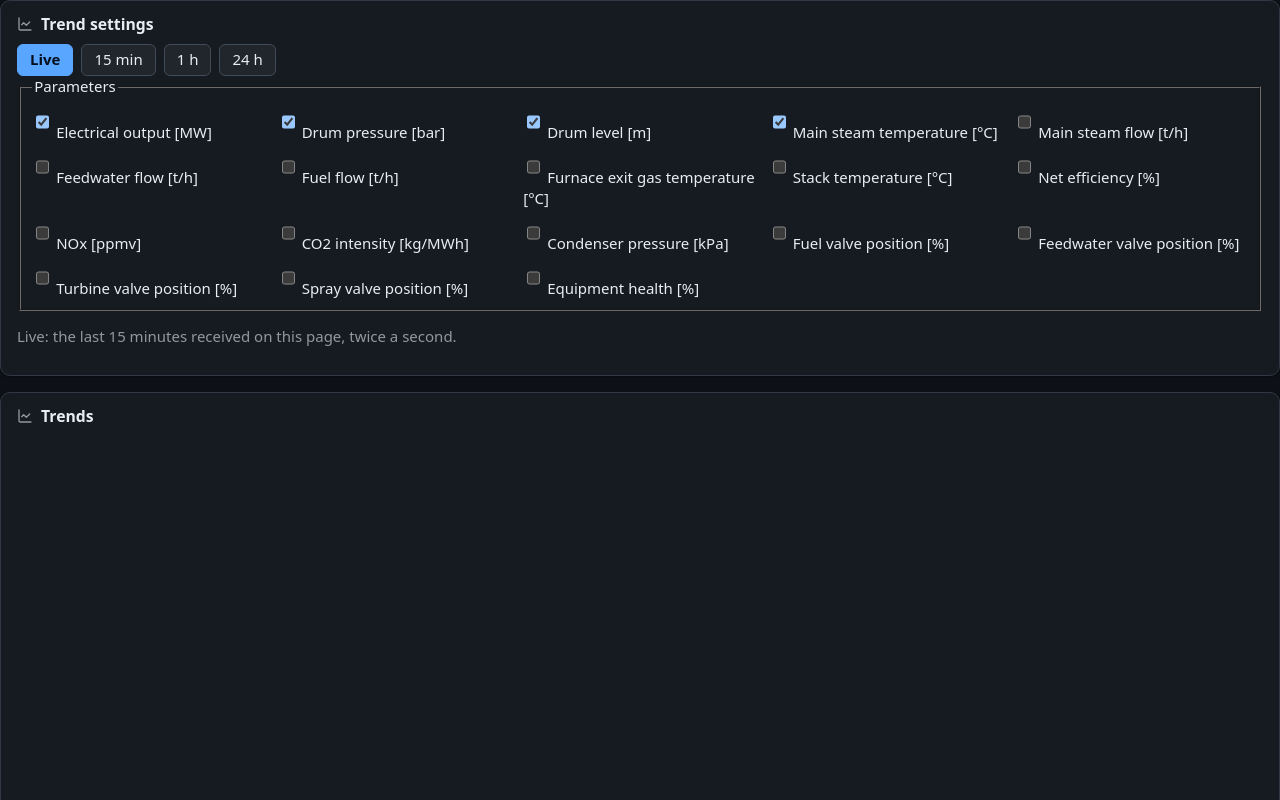
Scenario: TrendsScreen › reads recorded history for a fixed range, one request per measurement
Step 1. Click the button "1 h" → (188, 60), box 164,44 -> 212,76
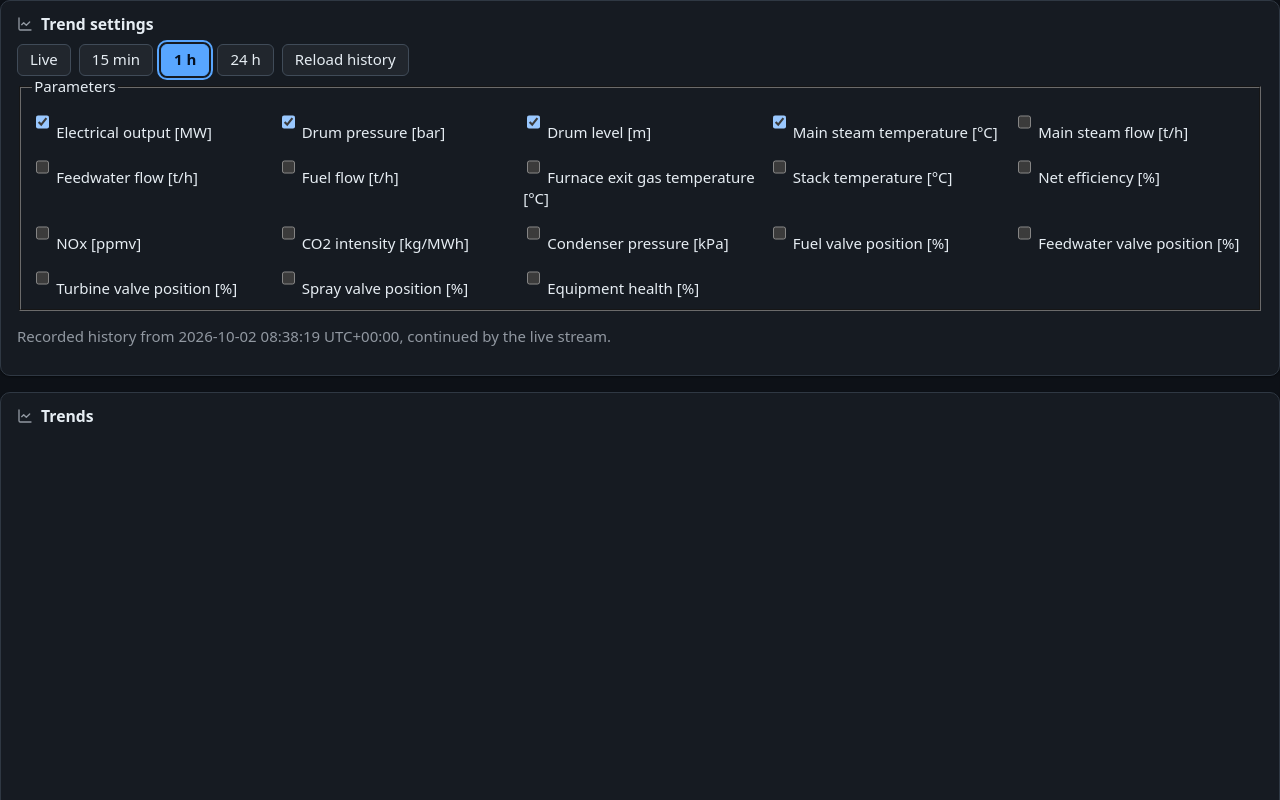
Expected: the button "Reload history" is shown, 282,44 -> 409,76
